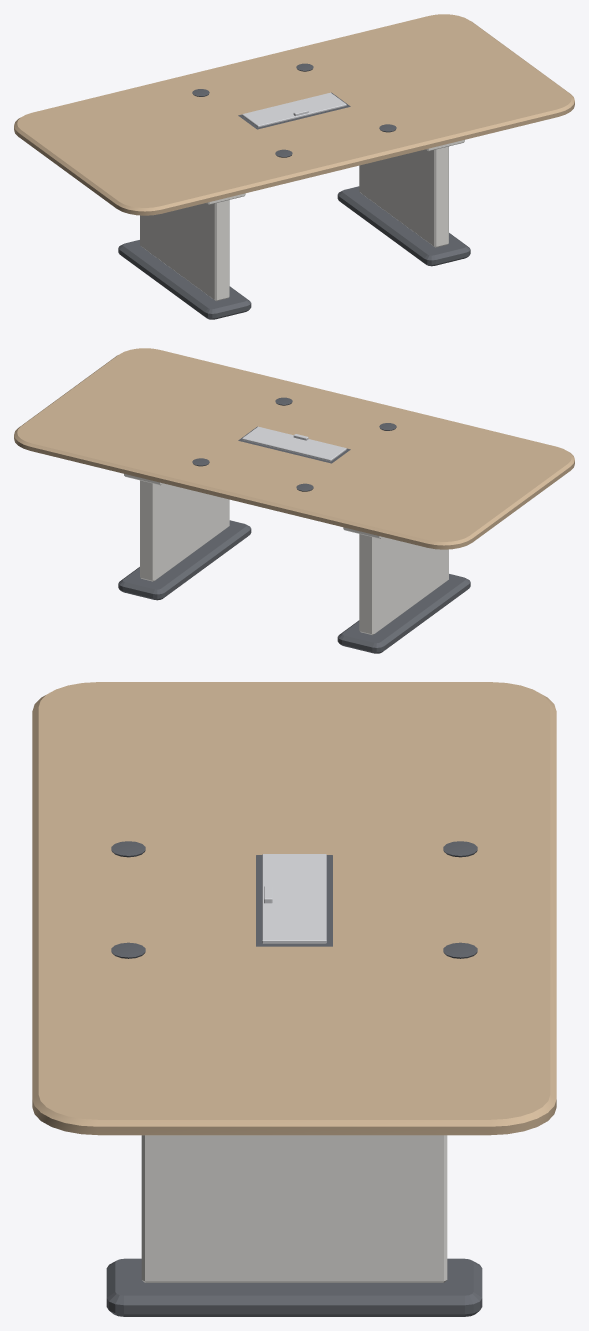
File: boardroom-table-8.glb
The picture shows the model from 3 angles, top to bottom: view 1: azimuth 30°, elevation 25°; view 2: azimuth 150°, elevation 25°; view 3: azimuth 270°, elevation 25°; orthographic projection. The views are drawn at different scales.
Visible parts, largest first — view 1: boardroom-table-8, cable-lid; view 2: boardroom-table-8, cable-lid; view 3: boardroom-table-8, cable-lid.
Part boxes in pixels (x1,y1,x2,y2): boardroom-table-8: (14, 14, 574, 319); cable-lid: (242, 92, 346, 127); boardroom-table-8: (14, 348, 574, 653); cable-lid: (242, 426, 346, 461); boardroom-table-8: (32, 682, 556, 1316); cable-lid: (262, 854, 326, 943).
Size of the model in its own units: 2.4 by 0.752 by 1.2.
